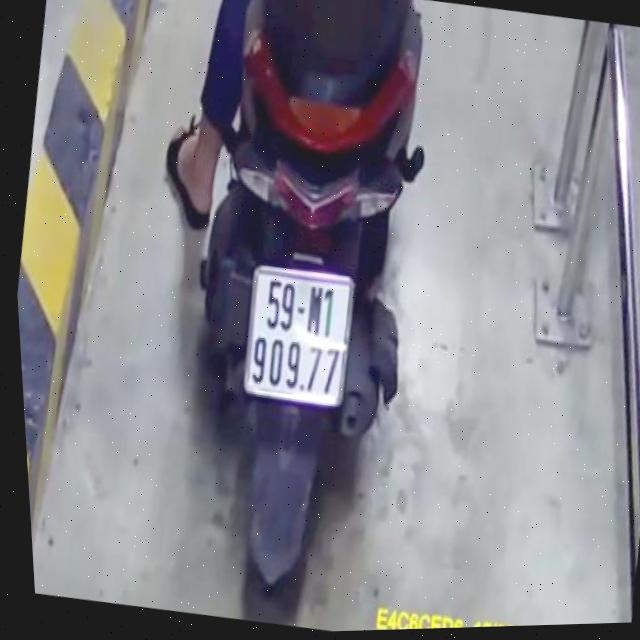motorcycle: (124, 0, 487, 626)
plate: (230, 256, 364, 416)
